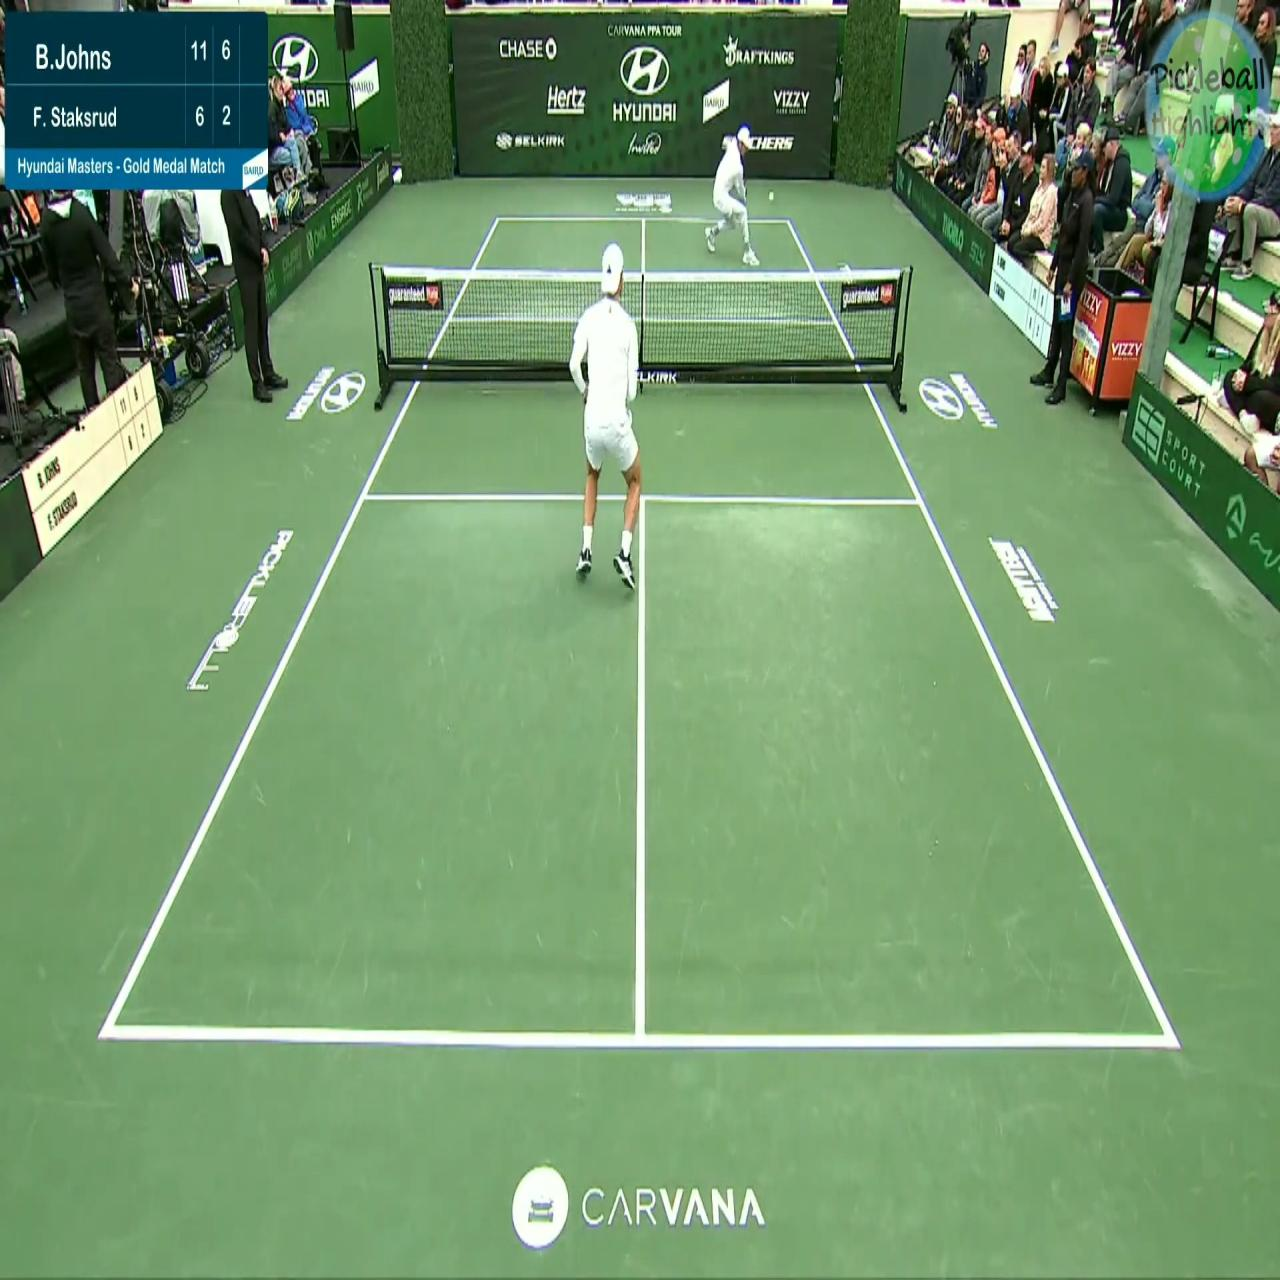pickleball: (768, 190, 775, 202)
